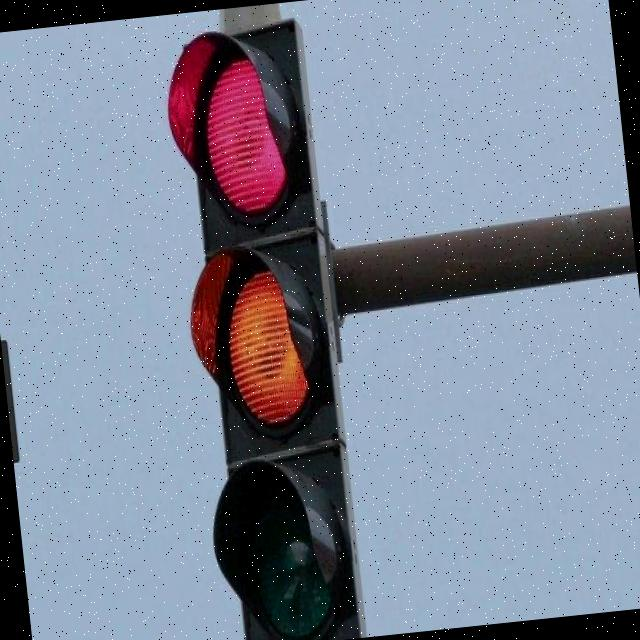Zolte swiatlo: (161, 21, 367, 640)
